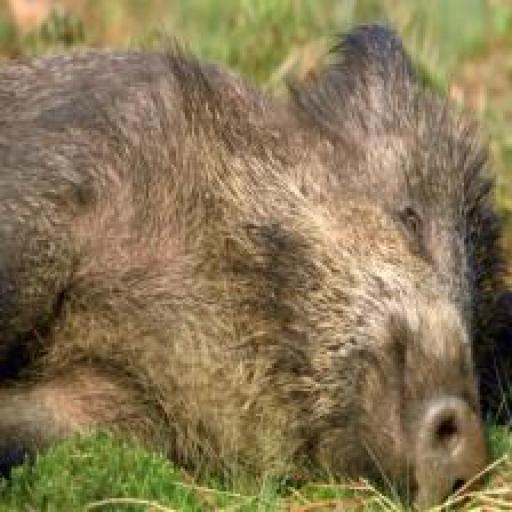Pig: (0, 25, 511, 512)
